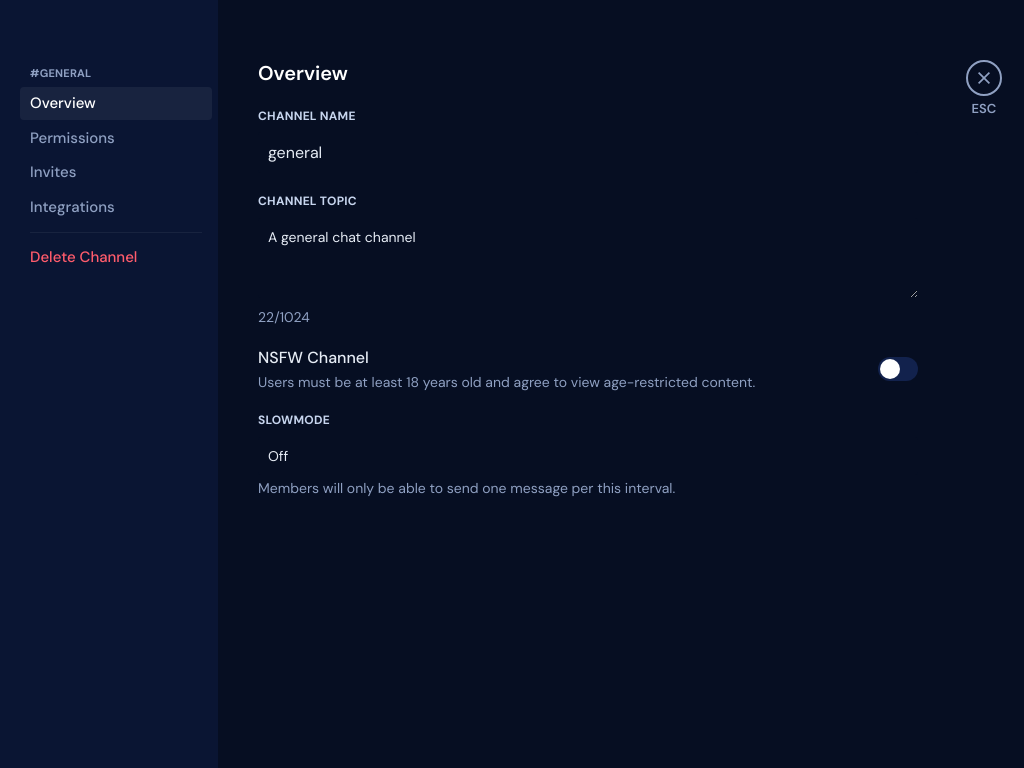
Scenario: ChannelSettings › resets form when Reset button is clicked
This screenshot has width=1024, height=768.
Replace the text in the field labelled "CHANNEL NAME" with "modified-name" at (588, 152), box [258,132,918,173]
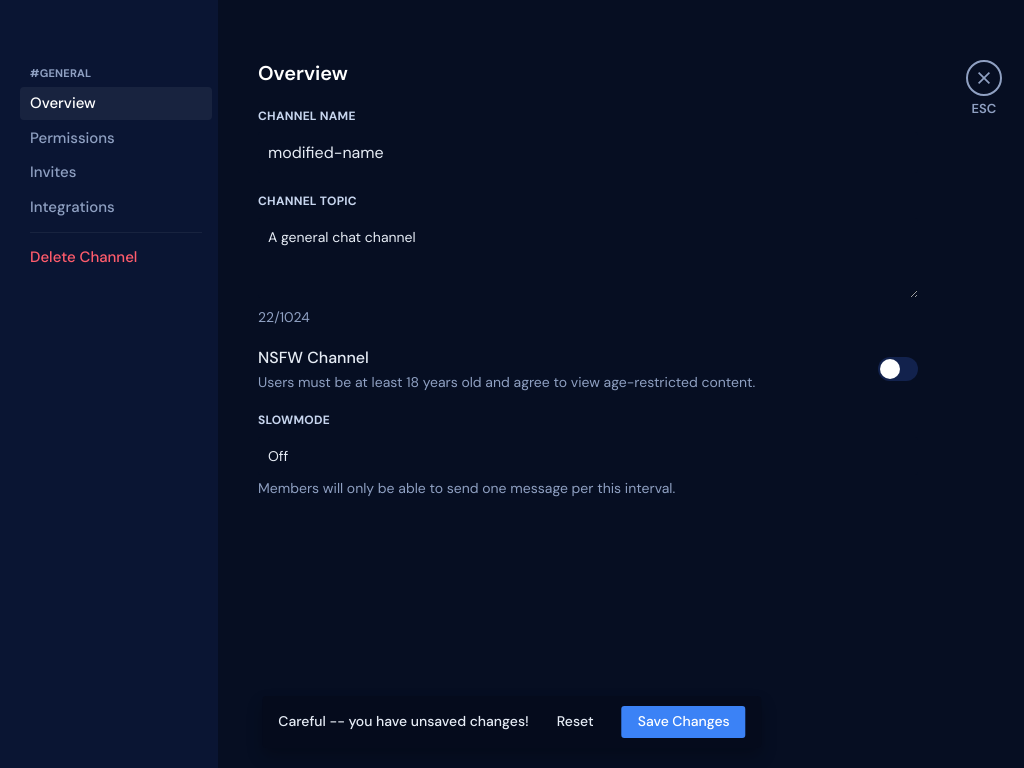
Click the button "Reset".
click(575, 722)  # box [541,706,610,738]
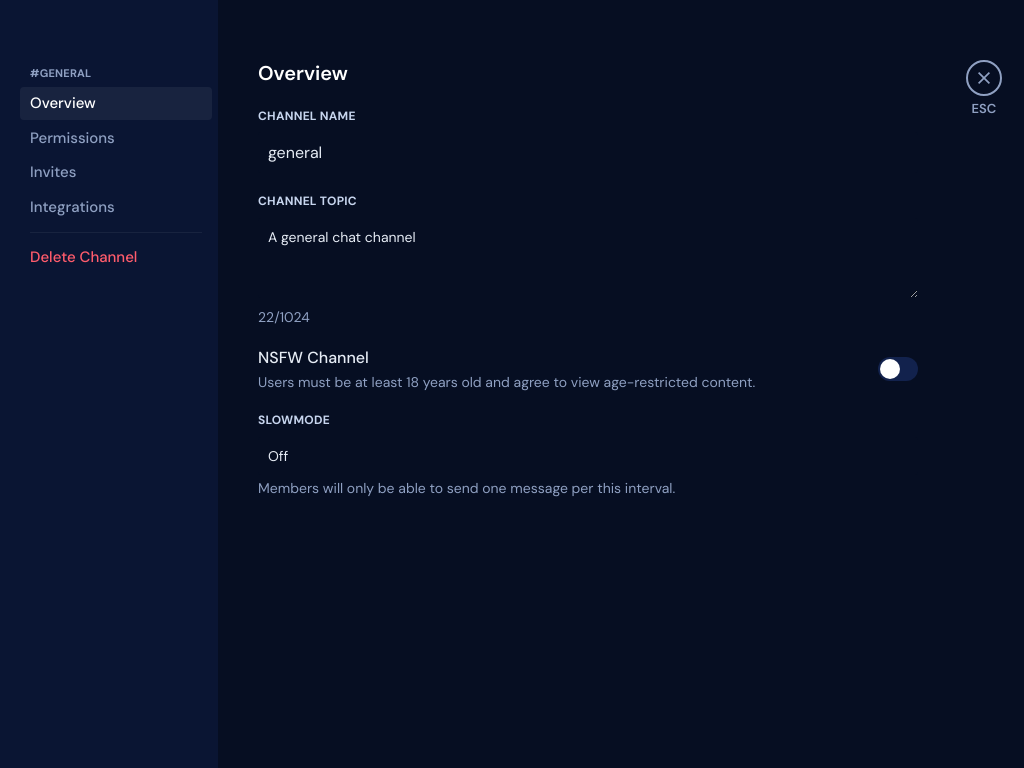
Expected: the field labelled "CHANNEL NAME" holds "general", [258,132,918,173]
